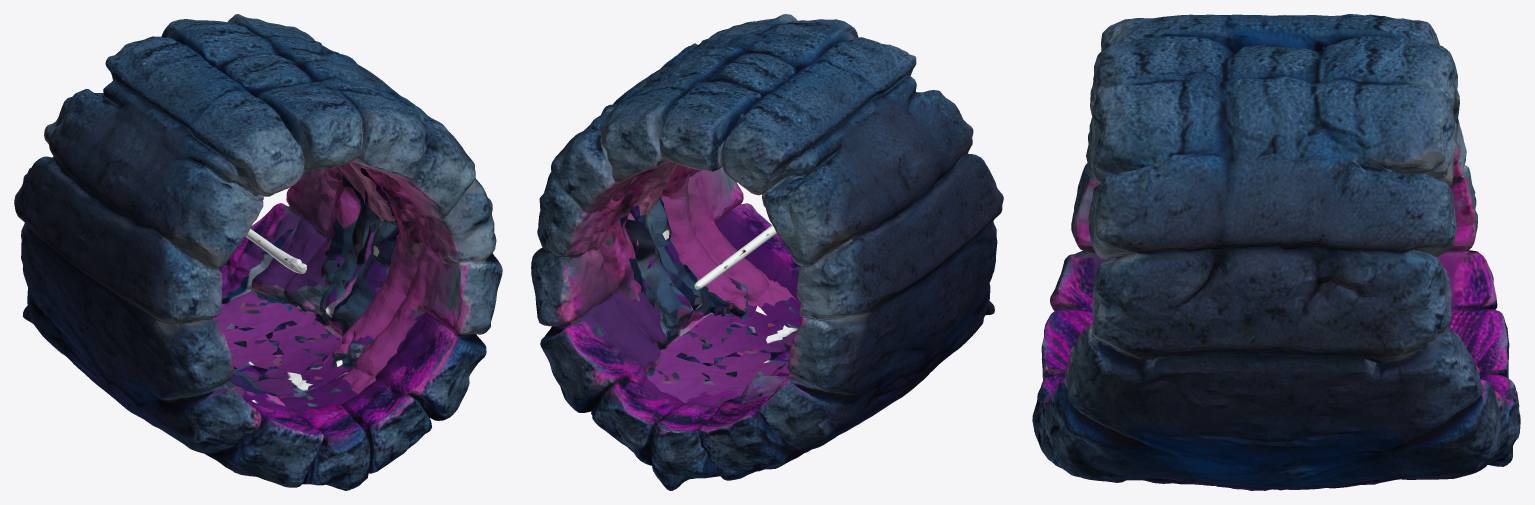
File: shore-ring.glb
3 renders of one model, left to right at view 1: azimuth 30°, elevation 25°; view 2: azimuth 150°, elevation 25°; view 3: azimuth 270°, elevation 25°, orthographic. The views are drawn at different scales.
Parts seen in each view (by area): view 1: temp_mesh.ply; view 2: temp_mesh.ply; view 3: temp_mesh.ply.
Boxes of the visible parts, <box> form: temp_mesh.ply: <box>14,14,502,490</box>; temp_mesh.ply: <box>531,14,1003,490</box>; temp_mesh.ply: <box>1032,14,1520,490</box>.
Size of the model in its own units: 1.97 by 1.9 by 1.97.
1 material, 1 textured.
